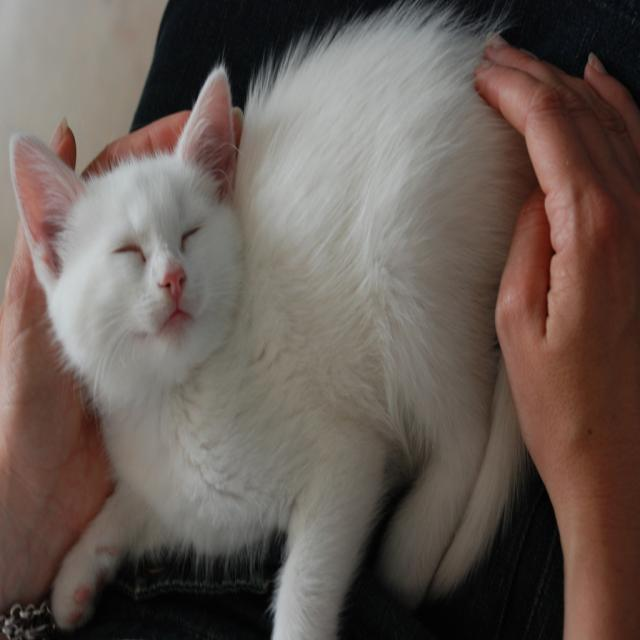Cat: (9, 0, 539, 639)
